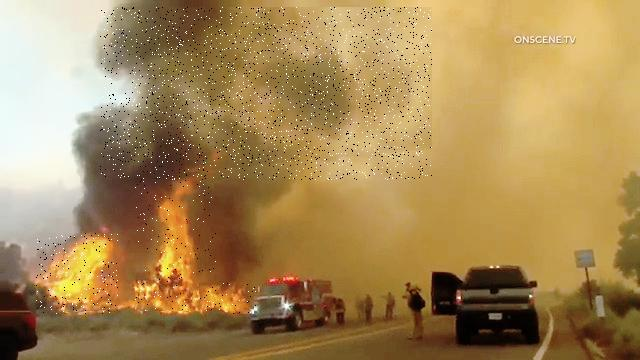fire: (136, 173, 217, 311), (36, 233, 118, 314), (202, 282, 257, 314)
smoke: (100, 7, 432, 180)
